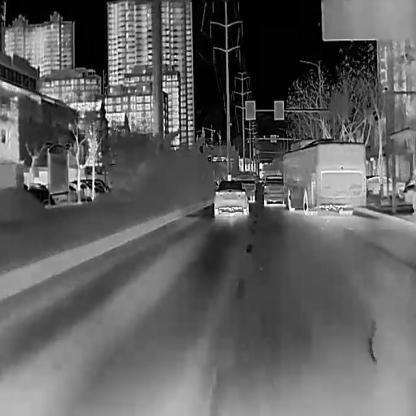car: (283, 138, 365, 215), (213, 180, 249, 216), (71, 178, 104, 201), (365, 174, 405, 192), (262, 175, 285, 206), (235, 172, 255, 203), (91, 177, 110, 196)
